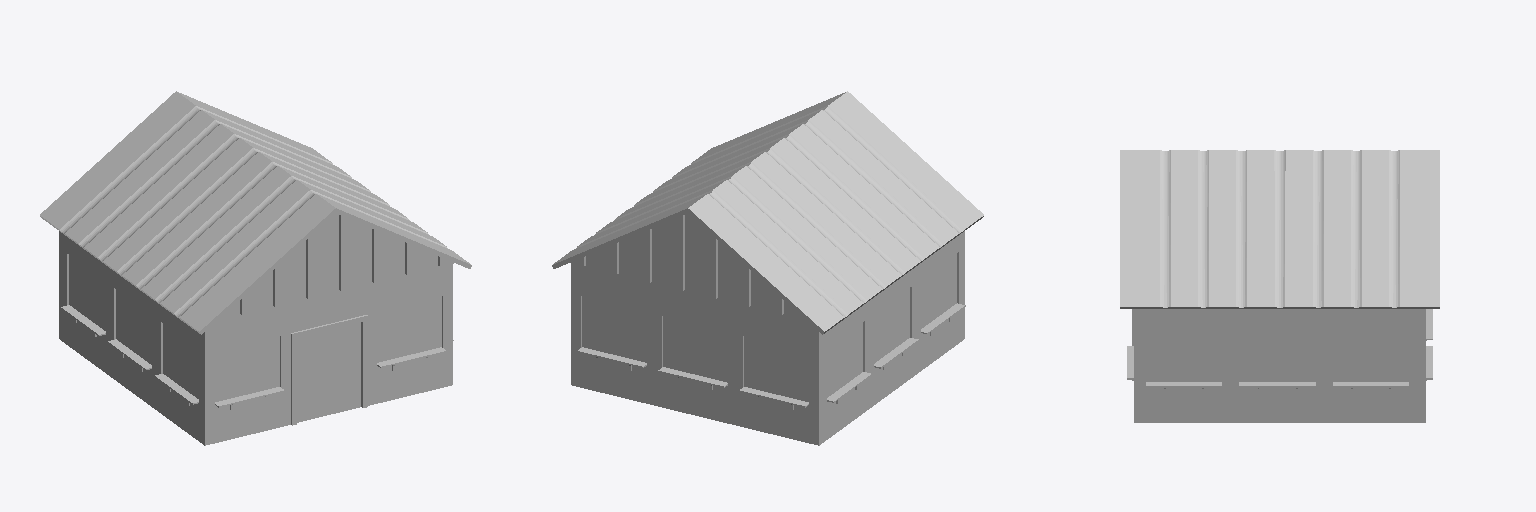
The model's file is house_updated.obj.
3 renders of one model, left to right at view 1: azimuth 30°, elevation 25°; view 2: azimuth 150°, elevation 25°; view 3: azimuth 270°, elevation 25°, orthographic.
Parts seen in each view (by area): view 1: House_House.001; view 2: House_House.001; view 3: House_House.001.
Part boxes in pixels (x1,y1,x2,y2): House_House.001: (40, 91, 471, 445); House_House.001: (552, 91, 983, 445); House_House.001: (1120, 150, 1439, 422).
Bounding box in the file's own units: 16.53 × 12.3 × 16.75.